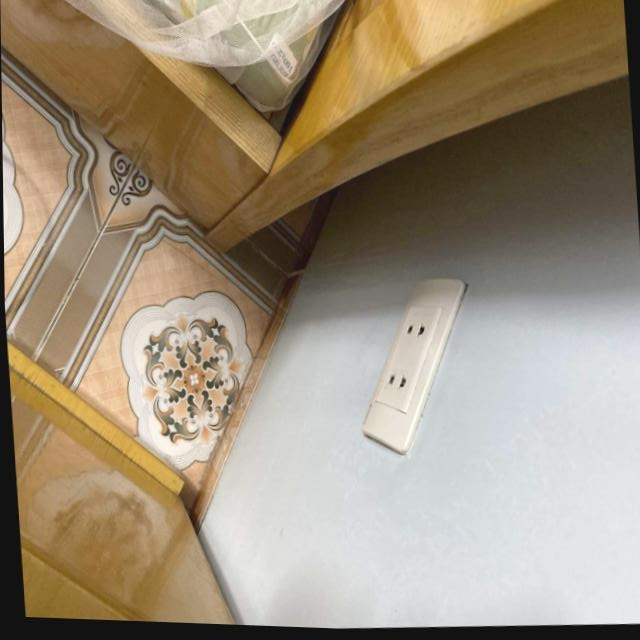outlet: (351, 272, 479, 460)
